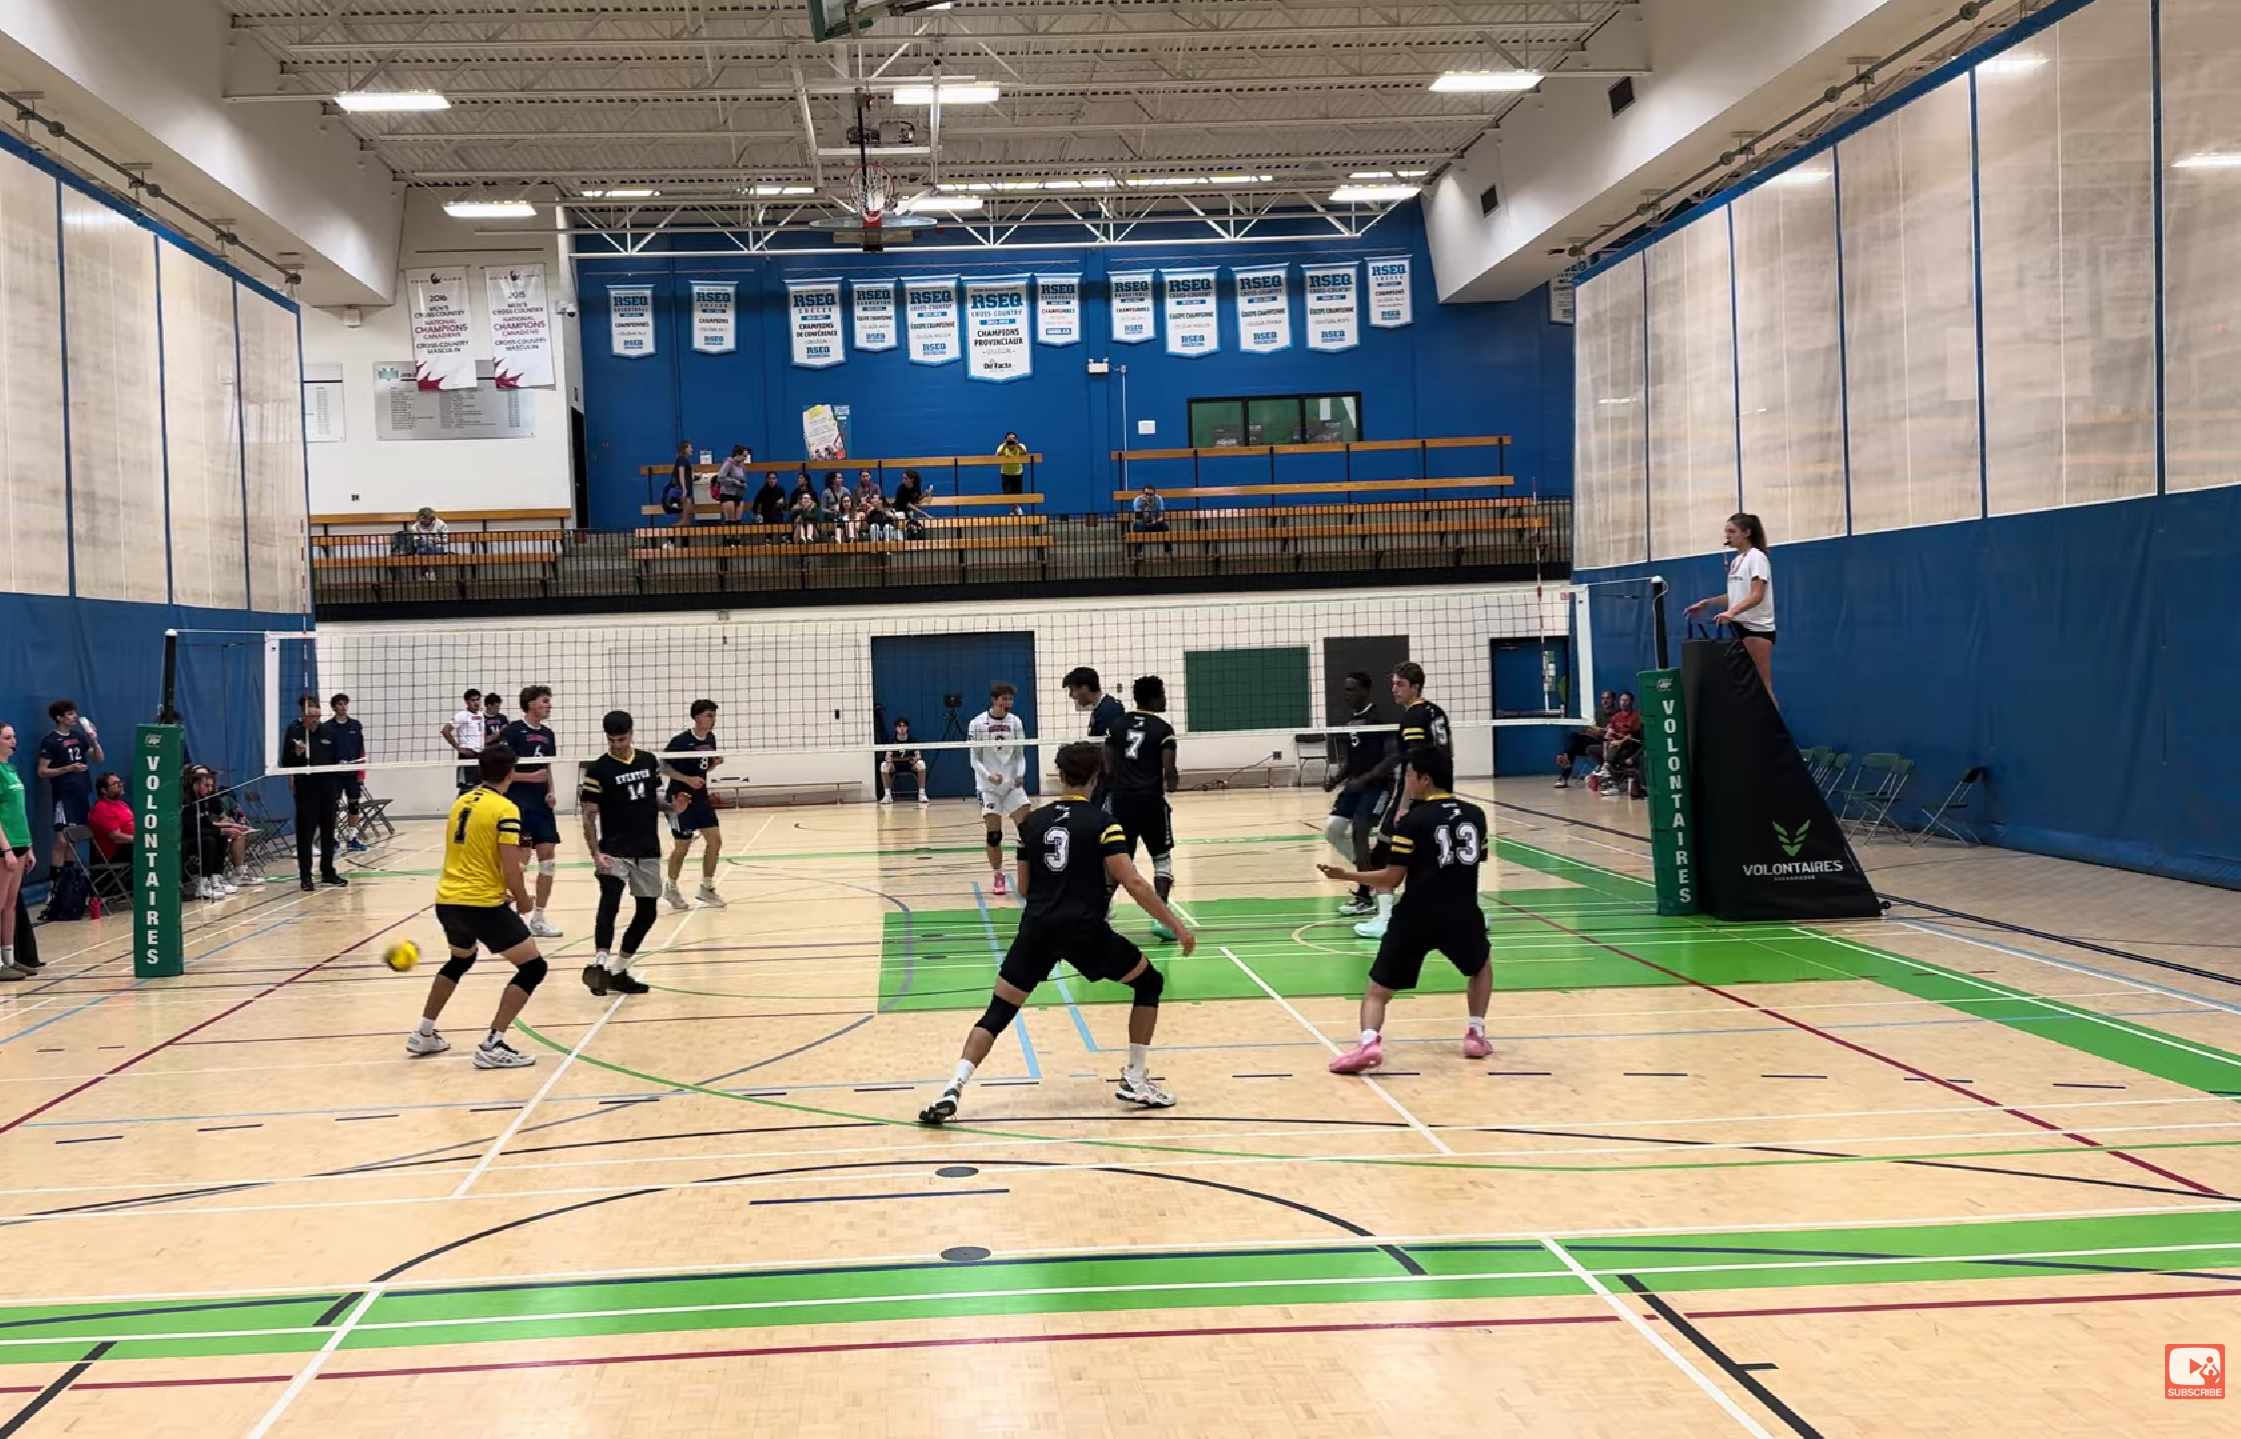Ball: (381, 939, 421, 973)
